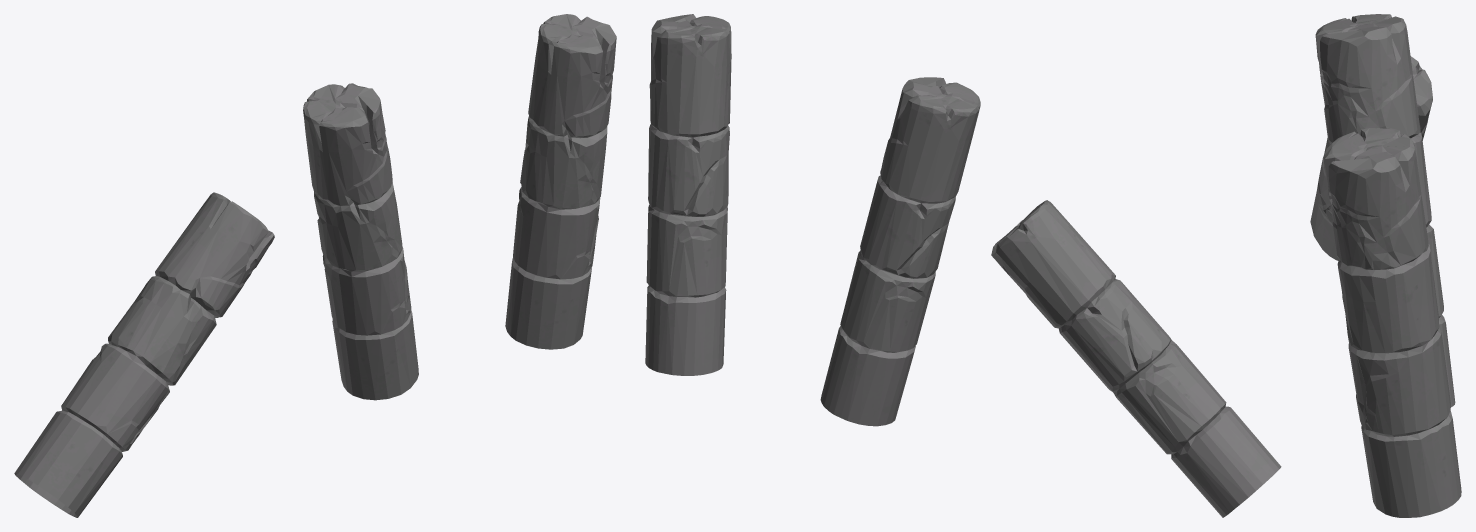
The model's file is Pillar_CB.fbx.
The picture shows the model from 3 angles, left to right: view 1: azimuth 30°, elevation 25°; view 2: azimuth 150°, elevation 25°; view 3: azimuth 270°, elevation 25°; orthographic projection. The views are drawn at different scales.
Parts seen in each view (by area): view 1: SM_ENV_AMVLLG02_Pillar_CB.mo; view 2: SM_ENV_AMVLLG02_Pillar_CB.mo; view 3: SM_ENV_AMVLLG02_Pillar_CB.mo.
Part boxes in pixels (x1,y1,x2,y2): SM_ENV_AMVLLG02_Pillar_CB.mo: [14, 14, 616, 517]; SM_ENV_AMVLLG02_Pillar_CB.mo: [645, 14, 1281, 517]; SM_ENV_AMVLLG02_Pillar_CB.mo: [1310, 14, 1461, 517].
Size of the model in its own units: 3008 by 1725 by 577.
